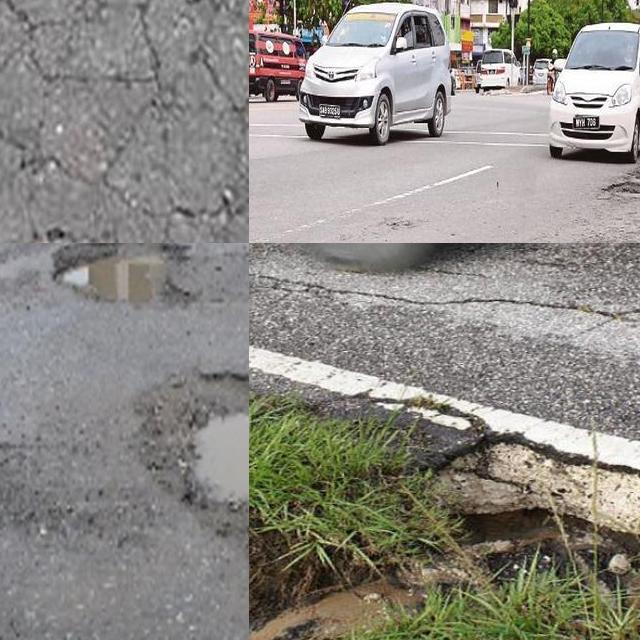Lubang: (140, 376, 249, 510), (52, 243, 249, 315)
Pinggir: (332, 390, 640, 595)
Retak Buaya: (0, 0, 249, 243)
